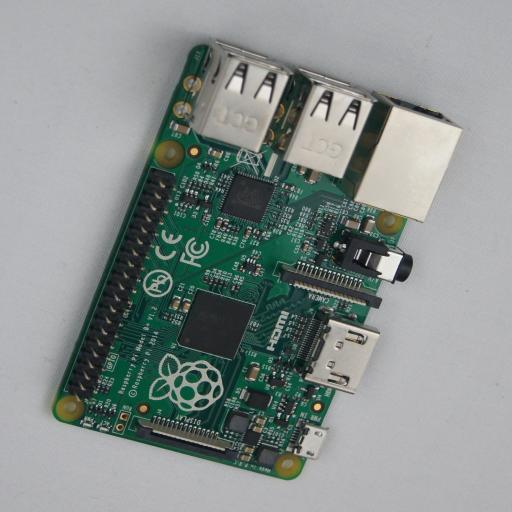Raspberry Pi 1 B-: (52, 39, 452, 480)
